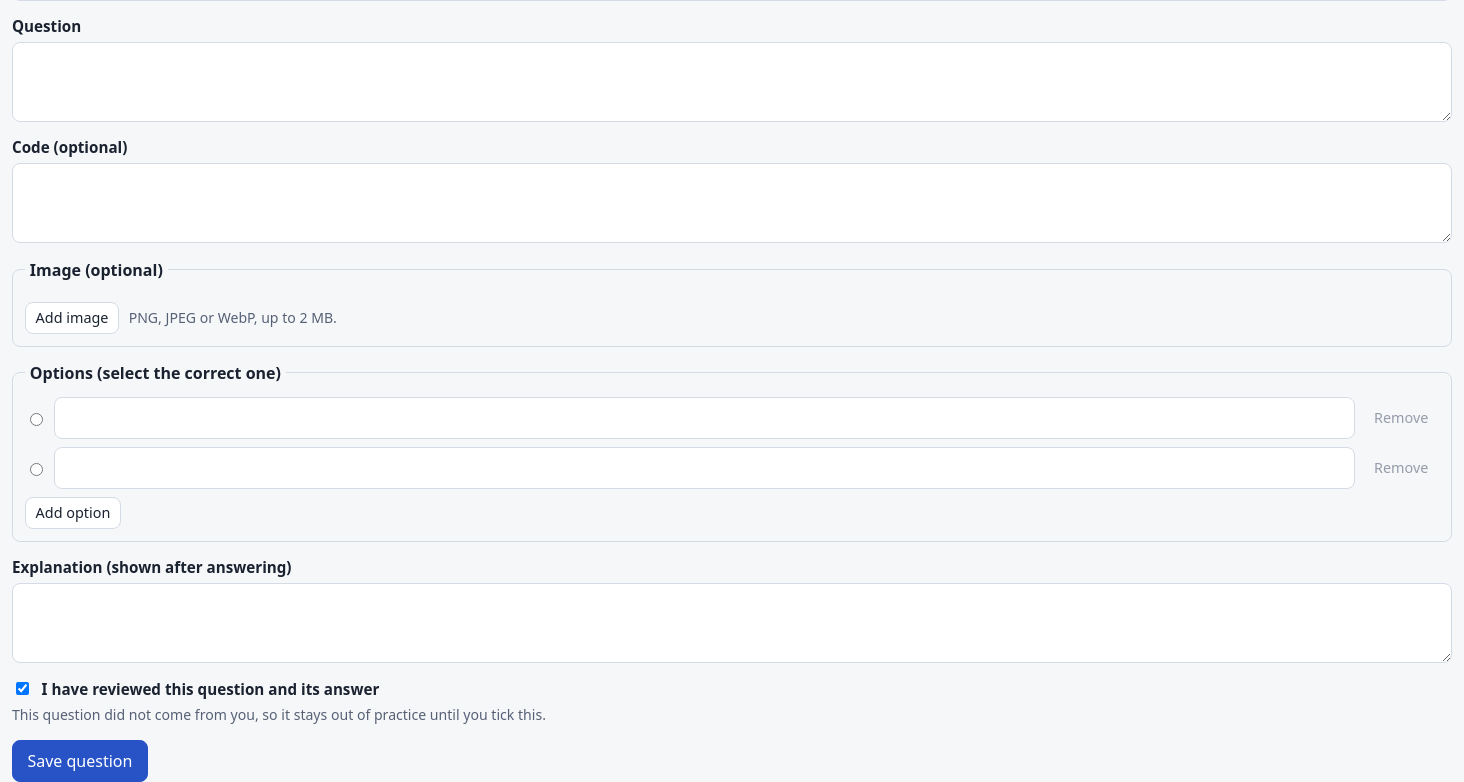
QuestionForm validation › does not submit an empty question and explains what is missing
(page scrolled)
Click the button "Save question": (80, 761) top-left (12, 740), bottom-right (148, 781)
(page scrolled)
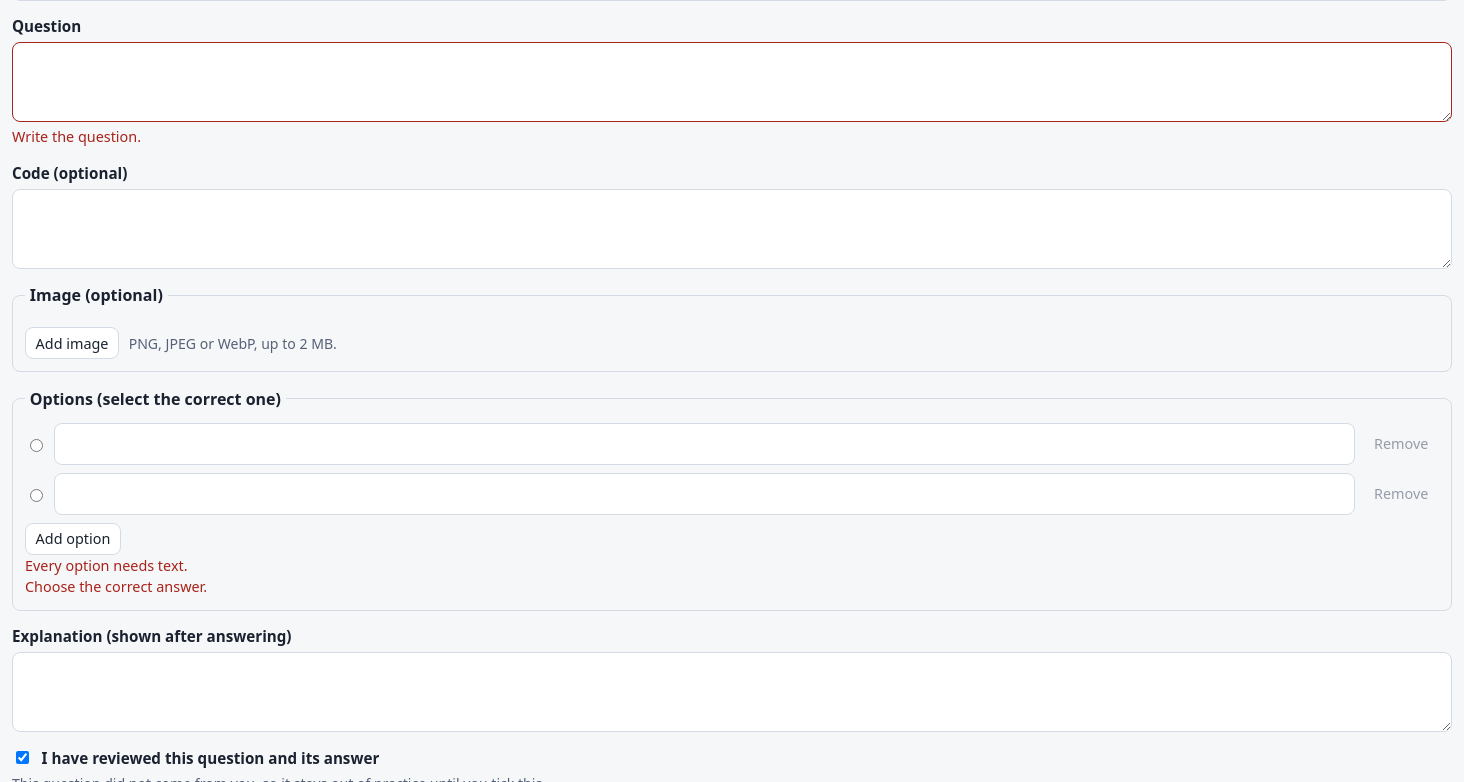
Expected: the text "Write the question." is shown, top-left (12, 127), bottom-right (141, 146)
Expected: the text "Every option needs text." is shown, top-left (25, 556), bottom-right (188, 575)
